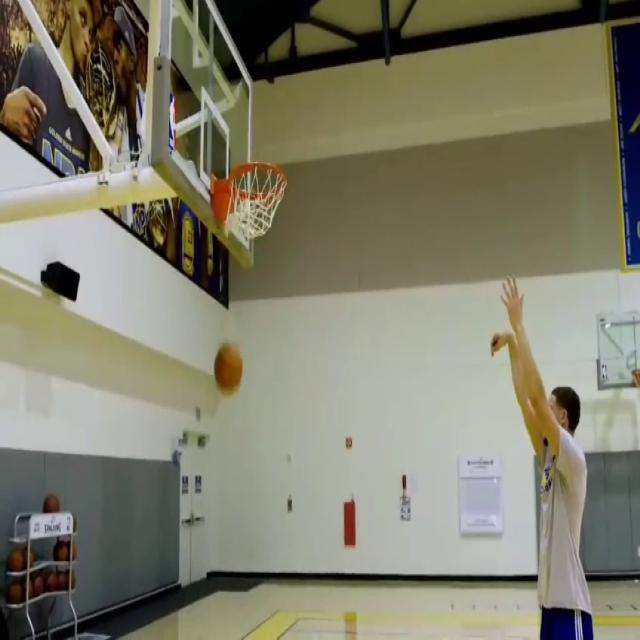ball: (213, 341, 246, 399), (7, 577, 28, 607), (8, 546, 26, 574), (42, 492, 61, 516), (53, 538, 69, 564), (63, 565, 77, 593), (31, 573, 45, 597), (42, 570, 55, 594), (53, 570, 66, 592), (66, 540, 78, 562)
